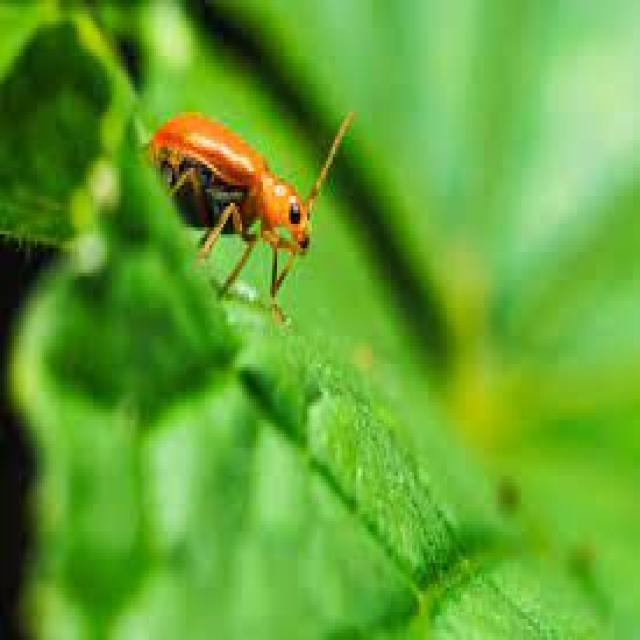Pumpkin Beetle: (143, 94, 365, 308)
